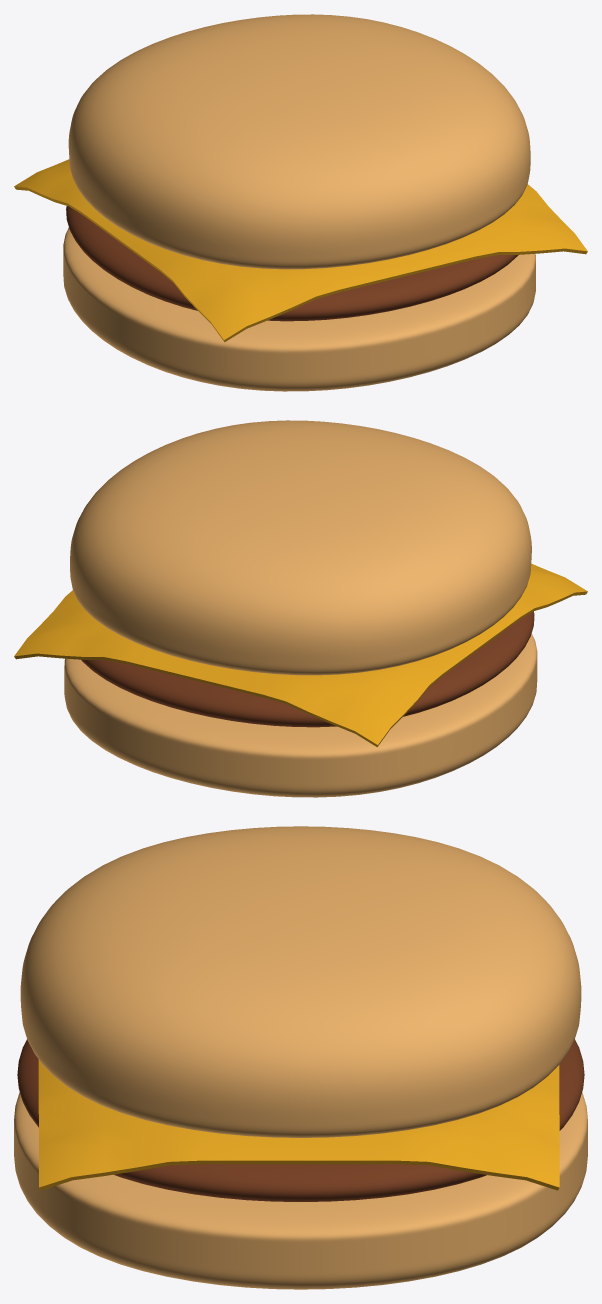
The model's file is hamburger.glb.
3 renders of one model, top to bottom at view 1: azimuth 30°, elevation 25°; view 2: azimuth 150°, elevation 25°; view 3: azimuth 270°, elevation 25°, orthographic. The views are drawn at different scales.
Visible parts, largest first — view 1: Cube.002, Cube, Plane, Cube.001; view 2: Cube.002, Cube, Plane, Cube.001; view 3: Cube.002, Cube, Plane, Cube.001.
Part boxes in pixels (x1=…): Cube.002: x1=68, y1=14, x2=530, y2=269; Cube: x1=63, y1=227, x2=535, y2=391; Plane: x1=14, y1=159, x2=587, y2=342; Cube.001: x1=66, y1=206, x2=518, y2=321; Cube.002: x1=70, y1=420, x2=531, y2=675; Cube: x1=64, y1=633, x2=537, y2=797; Plane: x1=14, y1=563, x2=587, y2=747; Cube.001: x1=81, y1=611, x2=534, y2=727; Cube.002: x1=20, y1=826, x2=581, y2=1137; Cube: x1=14, y1=1092, x2=587, y2=1289; Plane: x1=38, y1=1059, x2=559, y2=1190; Cube.001: x1=17, y1=1039, x2=584, y2=1201.
Size of the model in its own units: 9.17 by 5.28 by 9.17.
